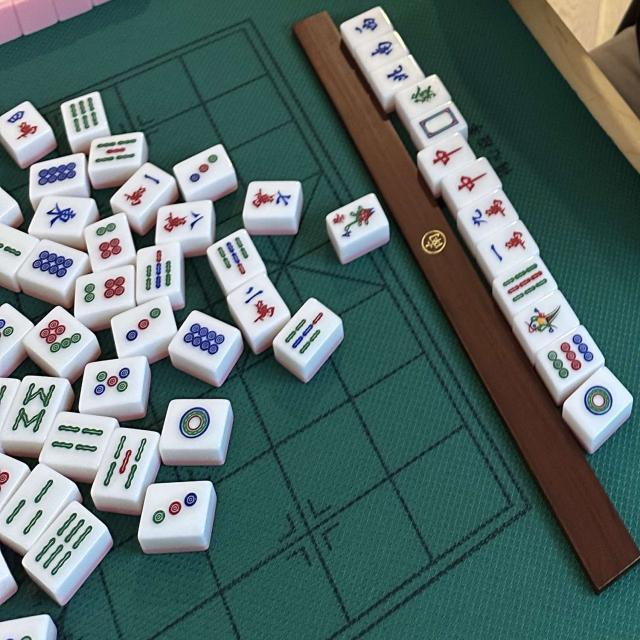bai: (416, 105, 464, 139)
east: (37, 198, 85, 233)
fa: (405, 79, 450, 108)
ff4: (326, 191, 389, 249)
m1: (477, 220, 539, 276), (116, 167, 164, 212)
m2: (227, 272, 290, 342)
m4: (3, 103, 44, 144)
m7: (245, 180, 301, 217)
m8: (158, 204, 208, 235)
m9: (459, 188, 521, 245)
north: (380, 59, 417, 89)
s1: (512, 291, 580, 354)
s2: (0, 222, 39, 278)
s3: (0, 463, 77, 552)
s4: (40, 415, 114, 468)
s5: (91, 428, 157, 500), (90, 138, 138, 164)
s6: (22, 502, 107, 592), (67, 91, 107, 133)
s7: (275, 295, 342, 367), (210, 230, 266, 292), (138, 246, 180, 302)
s8: (2, 376, 66, 442)
s9: (496, 256, 559, 314)
south: (364, 33, 406, 61)
t1: (564, 365, 634, 438), (160, 400, 227, 452)
t3: (141, 480, 210, 539), (112, 297, 176, 356), (175, 145, 230, 188)
t5: (79, 358, 141, 414), (0, 305, 33, 371)
t6: (86, 214, 136, 271), (77, 266, 136, 311)
t7: (25, 307, 95, 374)
t8: (170, 310, 240, 372), (19, 239, 84, 292), (32, 155, 84, 187)
t9: (536, 324, 606, 392)
west: (345, 9, 382, 36)
zhong: (444, 156, 502, 210), (420, 131, 476, 183)
